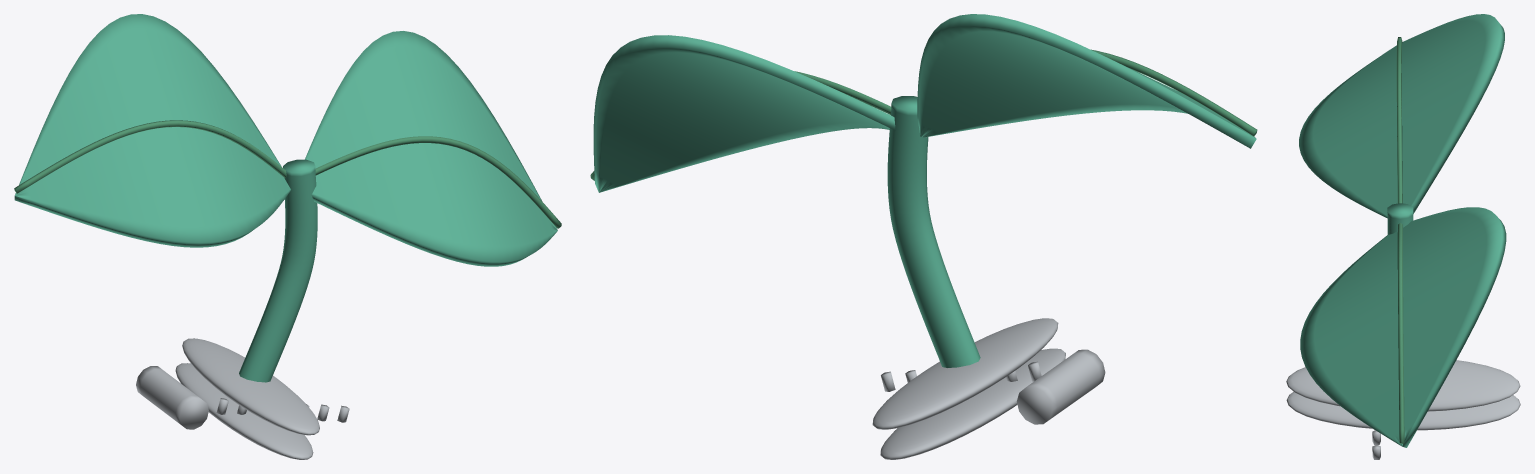
The model's file is Feminine-straight-pashmina249-sprout.glb.
3 views of the same model, side by side, from view 1: azimuth 30°, elevation 25°; view 2: azimuth 150°, elevation 25°; view 3: azimuth 270°, elevation 25° (orthographic). The views are drawn at different scales.
Parts seen in each view (by area): view 1: 226 extra / Accessory / mint226, 226 extra / Sprout / clip silver235, 226 extra / Sprout / leaf vein235; view 2: 226 extra / Accessory / mint226, 226 extra / Sprout / clip silver235, 226 extra / Sprout / leaf vein235; view 3: 226 extra / Accessory / mint226, 226 extra / Sprout / clip silver235, 226 extra / Sprout / leaf vein235.
Part boxes in pixels (box(x1,y1,x2,y2)): 226 extra / Accessory / mint226: box(14, 14, 557, 382); 226 extra / Sprout / clip silver235: box(136, 338, 349, 459); 226 extra / Sprout / leaf vein235: box(14, 120, 561, 228); 226 extra / Accessory / mint226: box(593, 14, 1256, 367); 226 extra / Sprout / clip silver235: box(872, 318, 1105, 459); 226 extra / Sprout / leaf vein235: box(590, 49, 1257, 180); 226 extra / Accessory / mint226: box(1299, 14, 1506, 447); 226 extra / Sprout / clip silver235: box(1286, 360, 1520, 459); 226 extra / Sprout / leaf vein235: box(1396, 37, 1404, 443).
Bounding box in the file's own units: 0.2606 × 0.1793 × 0.104.
